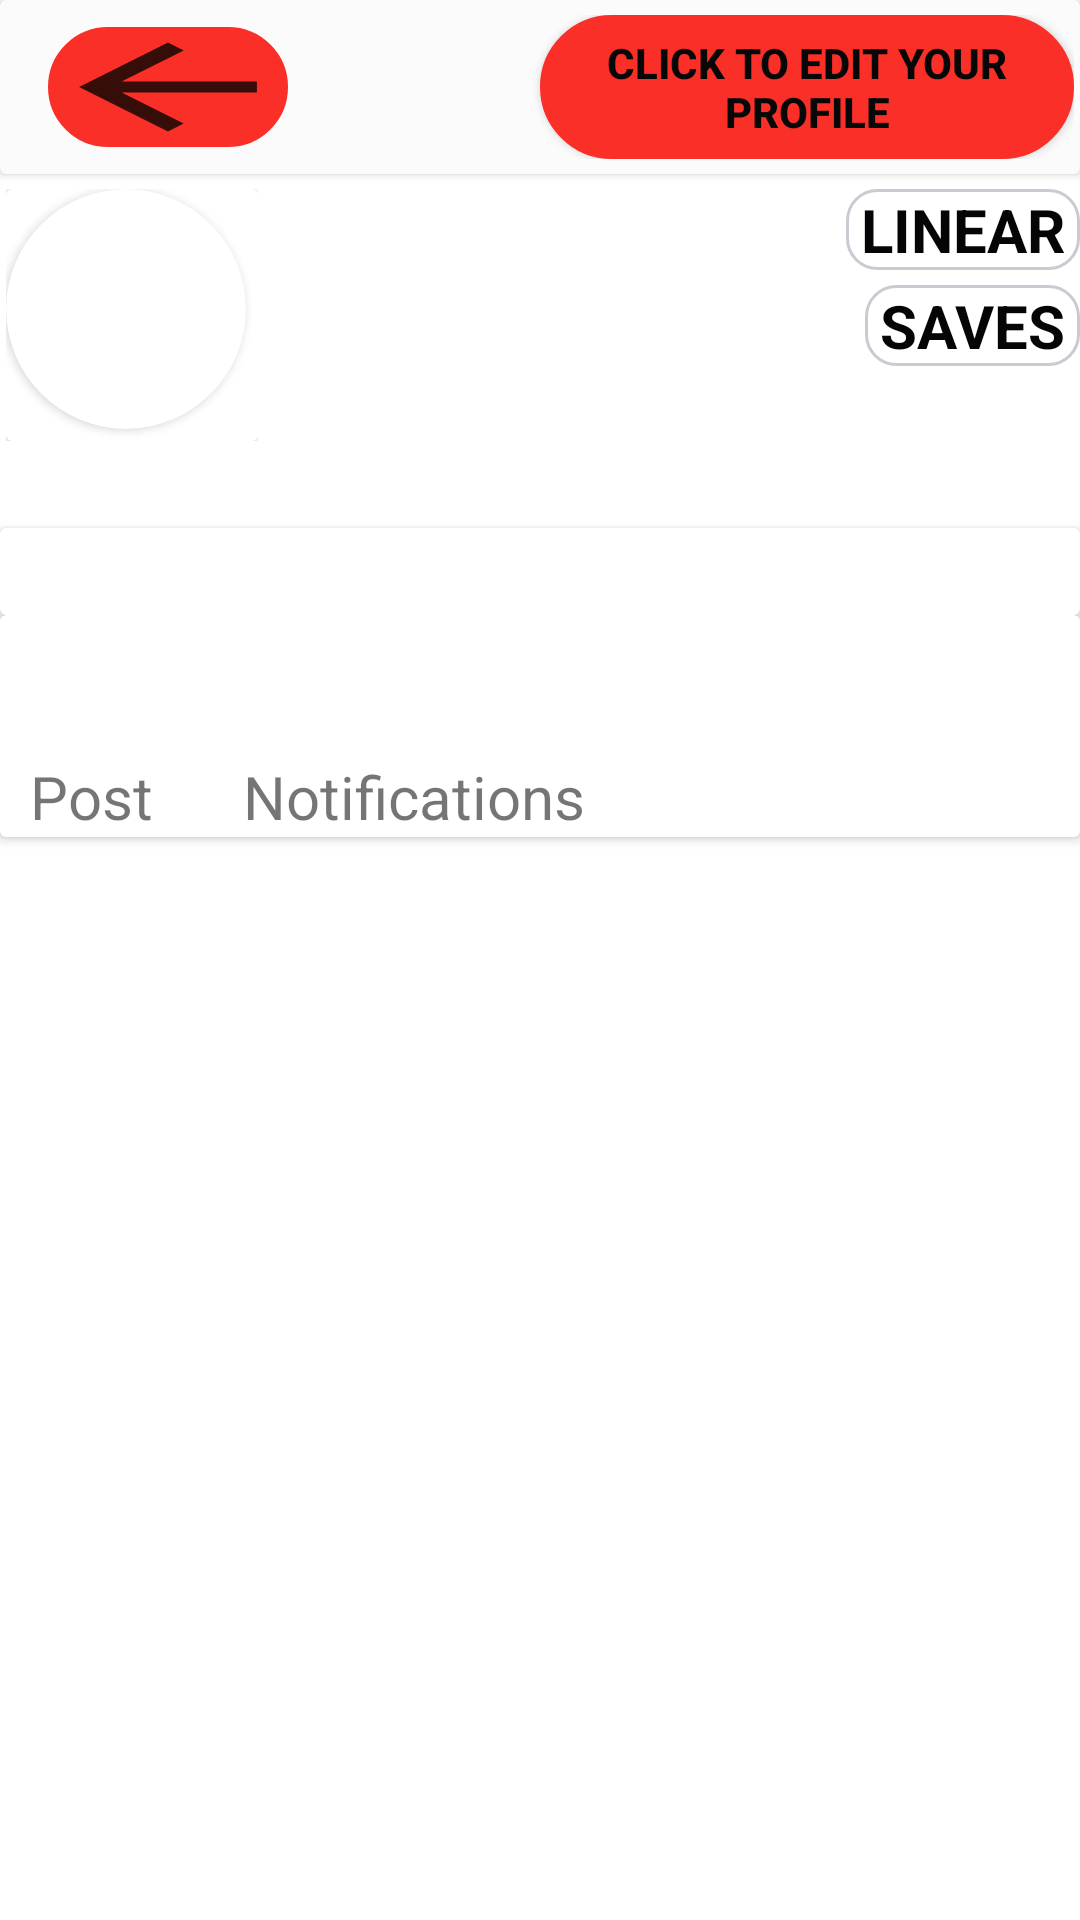

Icons on this 1080×1920 Android screen, each with its box as [x1=x1, y1=y1, x2=x2, y2=y2]:
navigation: [x1=48, y1=27, x2=288, y2=147]
